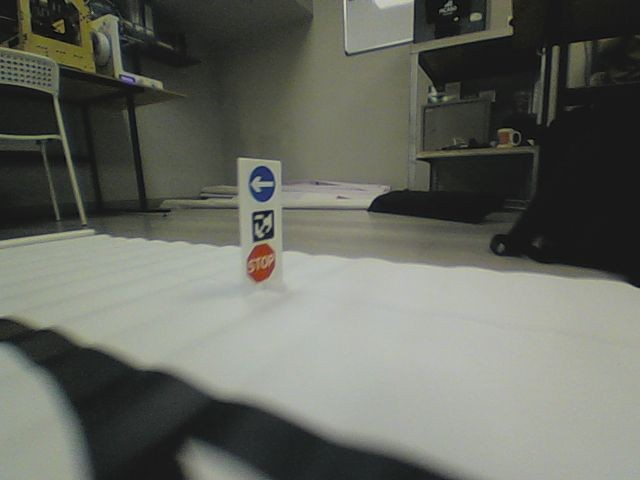Stop: (246, 242, 277, 283)
